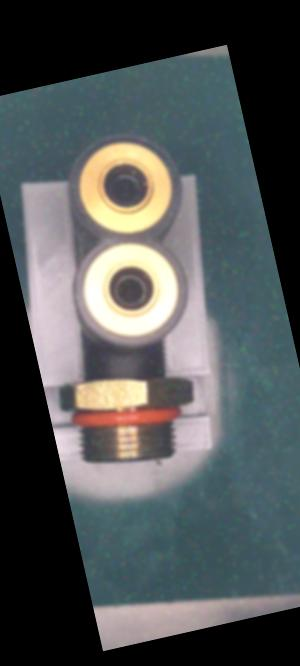white mark: (122, 368, 133, 380)
